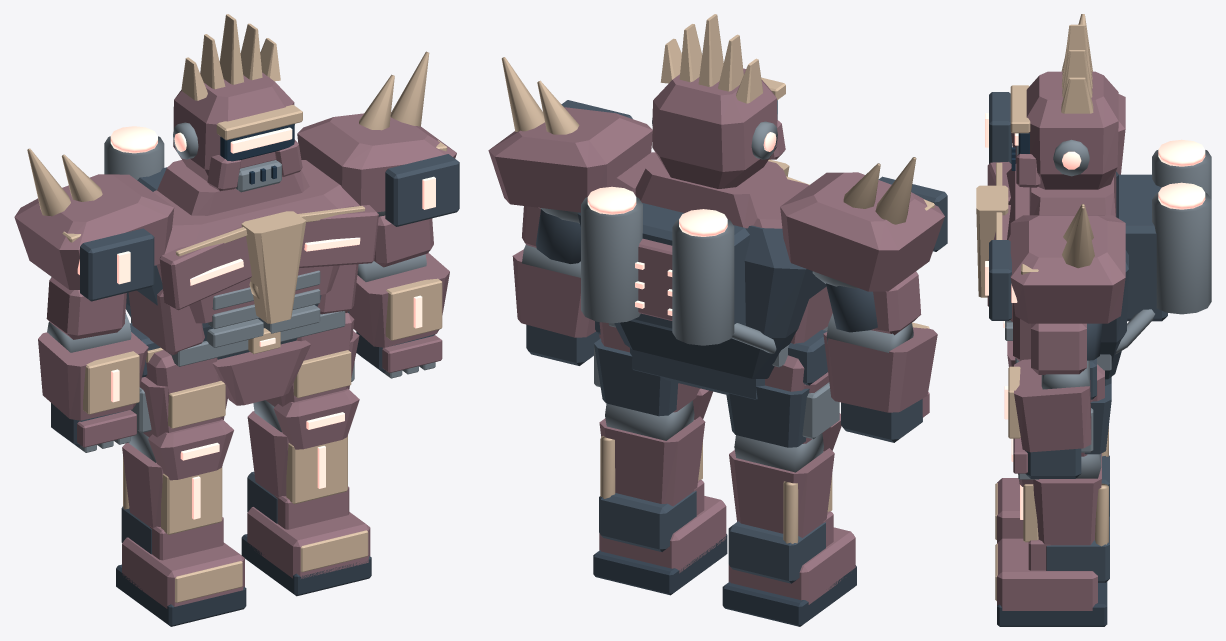
Rendered from character_overlord.glb.
3 views of the same model, side by side, from view 1: azimuth 30°, elevation 25°; view 2: azimuth 150°, elevation 25°; view 3: azimuth 270°, elevation 25° (orthographic). The views are drawn at different scales.
Visible parts, largest first — view 1: shoulder_pauldron_63, shoulder_pauldron_78, thorax_carapace_2, helmet_94, thorax_warlord_sternum_137, forearm_bracer_69, boot_toe_47, shoulder_warlord_face_129, shoulder_warlord_face_135, pectoral_plate_3, codpiece_24, boot_toe_31 (+57 smaller); view 2: shoulder_pauldron_63, shoulder_pauldron_78, torso_1, helmet_94, reactor_power_stack_127, forearm_bracer_69, reactor_power_stack_133, shin_armor_51, shin_armor_35, neck_guard_collar_93, forearm_bracer_84, boot_ankle_49 (+41 smaller); view 3: shoulder_pauldron_78, helmet_94, reactor_power_stack_133, forearm_bracer_84, boot_toe_47, reactor_pack_108, shin_armor_51, upper_arm_plate_82, neck_guard_collar_93, boot_sole_46, thorax_warlord_sternum_137, boot_ankle_49 (+29 smaller).
Part boxes in pixels (x1=…): shoulder_pauldron_63: x1=14, y1=174, x2=174, y2=289; shoulder_pauldron_78: x1=297, y1=112, x2=456, y2=212; thorax_carapace_2: x1=153, y1=160, x2=359, y2=323; helmet_94: x1=173, y1=72, x2=294, y2=181; thorax_warlord_sternum_137: x1=241, y1=211, x2=306, y2=323; forearm_bracer_69: x1=38, y1=332, x2=148, y2=420; boot_toe_47: x1=247, y1=507, x2=370, y2=578; shoulder_warlord_face_129: x1=80, y1=228, x2=154, y2=301; shoulder_warlord_face_135: x1=385, y1=154, x2=459, y2=226; pectoral_plate_3: x1=159, y1=226, x2=251, y2=310; codpiece_24: x1=212, y1=340, x2=310, y2=405; boot_toe_31: x1=122, y1=537, x2=244, y2=608; shoulder_pauldron_63: x1=780, y1=172, x2=944, y2=291; shoulder_pauldron_78: x1=488, y1=107, x2=652, y2=212; torso_1: x1=577, y1=212, x2=826, y2=378; helmet_94: x1=652, y1=68, x2=777, y2=188; reactor_power_stack_127: x1=672, y1=219, x2=734, y2=345; forearm_bracer_69: x1=823, y1=327, x2=937, y2=412; reactor_power_stack_133: x1=581, y1=197, x2=642, y2=323; shin_armor_51: x1=599, y1=416, x2=705, y2=506; shin_armor_35: x1=729, y1=448, x2=834, y2=537; neck_guard_collar_93: x1=635, y1=159, x2=792, y2=228; forearm_bracer_84: x1=512, y1=249, x2=595, y2=337; boot_ankle_49: x1=599, y1=490, x2=696, y2=551; shoulder_pauldron_78: x1=1010, y1=215, x2=1125, y2=323; helmet_94: x1=1026, y1=71, x2=1118, y2=189; reactor_power_stack_133: x1=1152, y1=192, x2=1211, y2=314; forearm_bracer_84: x1=1014, y1=359, x2=1091, y2=452; boot_toe_47: x1=997, y1=538, x2=1097, y2=610; reactor_pack_108: x1=1116, y1=174, x2=1167, y2=321; shin_armor_51: x1=1033, y1=453, x2=1101, y2=545; upper_arm_plate_82: x1=1031, y1=323, x2=1086, y2=374; neck_guard_collar_93: x1=1029, y1=172, x2=1116, y2=216; boot_sole_46: x1=997, y1=582, x2=1107, y2=626; thorax_warlord_sternum_137: x1=976, y1=185, x2=1008, y2=297; boot_ankle_49: x1=1046, y1=516, x2=1109, y2=582.
Size of the model in its own units: 2.01 by 2.66 by 1.02.
